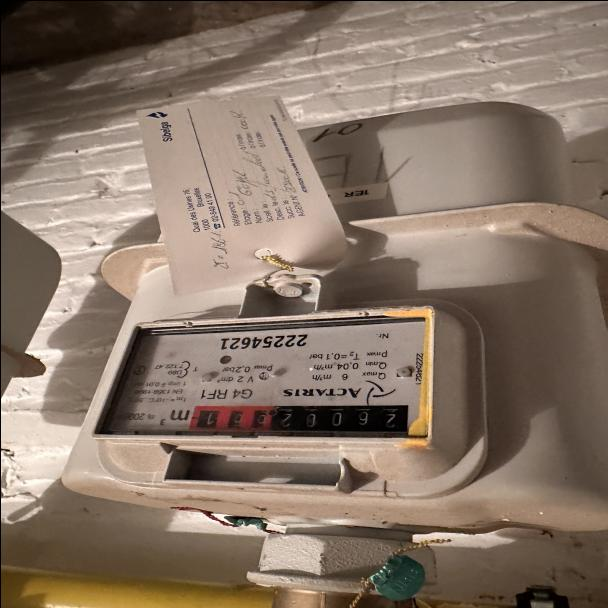0: (298, 401, 322, 431), (322, 404, 346, 432)
1: (182, 399, 218, 434)
2: (270, 403, 297, 433), (376, 402, 404, 430)
6: (220, 401, 248, 432), (347, 404, 374, 430), (247, 404, 270, 430)
cm: (178, 403, 270, 434)
counter: (267, 400, 411, 434)
